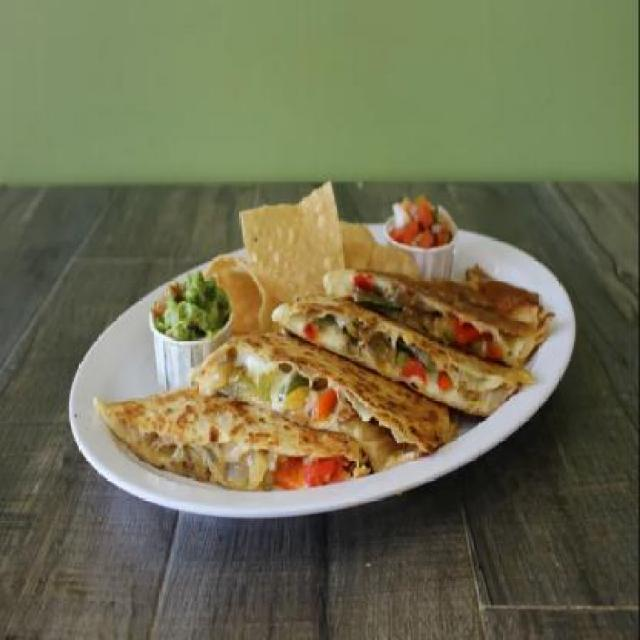chicken quesadilla: (90, 268, 548, 510)
guacamole: (144, 273, 236, 390)
nachos: (207, 172, 375, 332)
